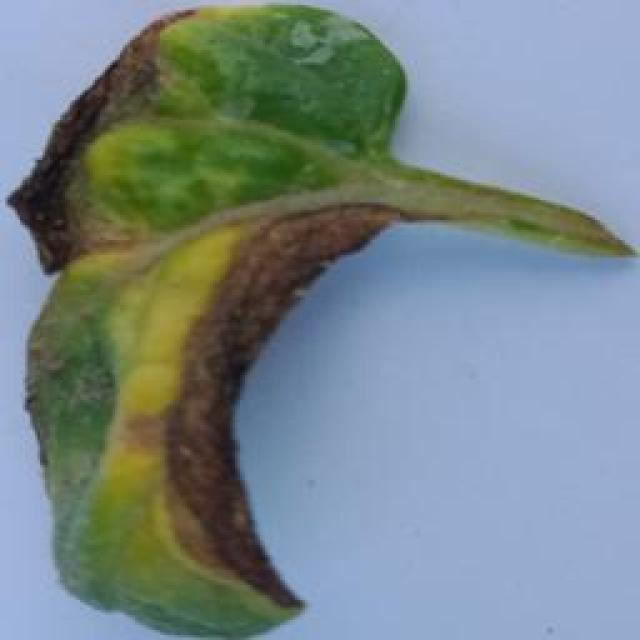Potato_Late_Blight: (13, 5, 406, 631)
